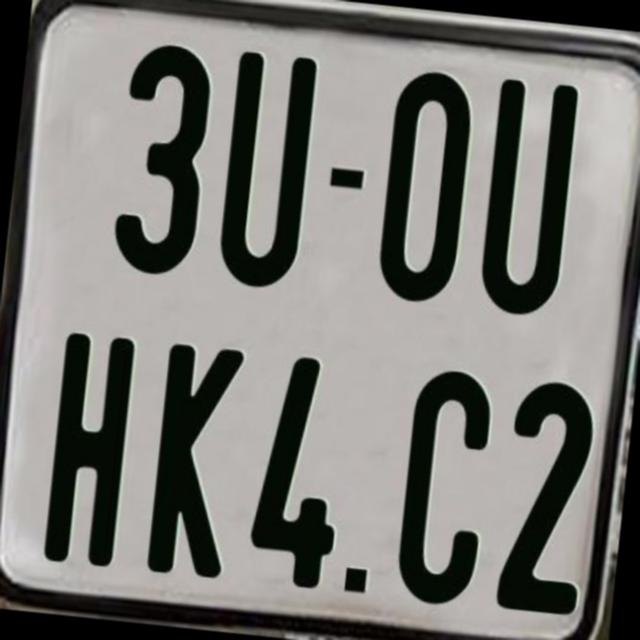0: (373, 67, 483, 310)
2: (493, 372, 600, 618)
3: (108, 40, 222, 282)
4: (242, 350, 356, 590)
C: (393, 364, 496, 614)
H: (40, 327, 142, 573)
K: (142, 339, 249, 578)
U: (212, 46, 322, 290), (473, 75, 577, 324)
